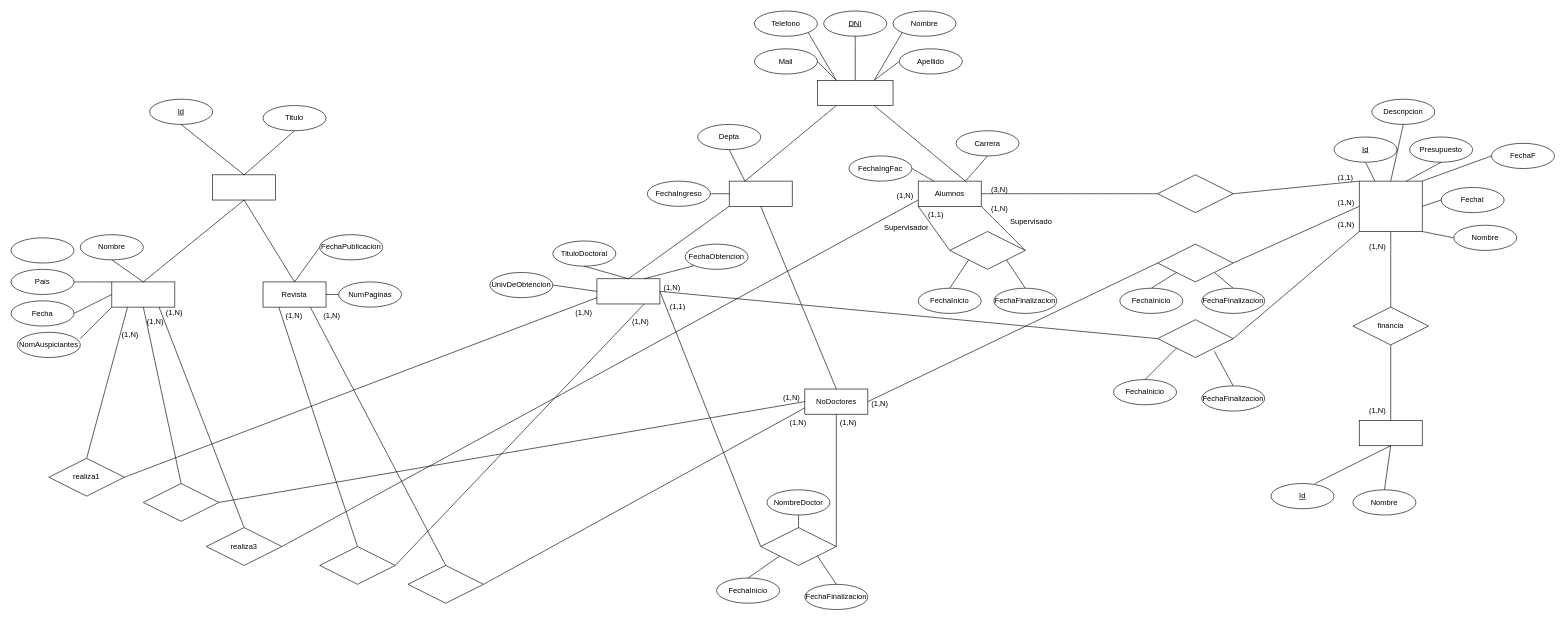
The diagram is 1566 pixels wide and 621 high, and some of its shapes have lost their labels. Each missing label, with the centre of its shape:
"Congreso" belongs at (143,294).
"Cuidad" belongs at (42,250).
"Doctores" belongs at (628,291).
"Financiadora" belongs at (1390,433).
"PersonasDeProyecto" belongs at (855,93).
"Profesores" belongs at (760,193).
"Proyecto" belongs at (1390,206).
"Publicaciones" belongs at (244,187).
"realiza2" belongs at (181,502).
"realiza4" belongs at (357,565).
"realiza5" belongs at (445,584).
"Supervisa" belongs at (798,546).
"supervisa1" belongs at (987,250).
"trabaja1" belongs at (1195,193).
"trabaja2" belongs at (1195,262).
"trabaja3" belongs at (1195,338).
